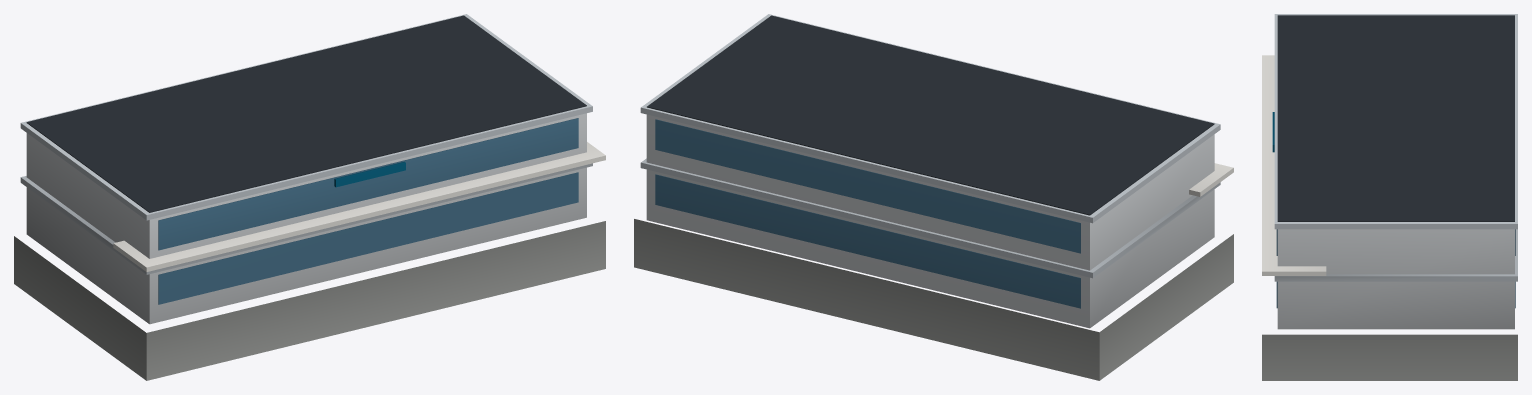
The model's file is aerodrome-terminal.glb.
3 renders of one model, left to right at view 1: azimuth 30°, elevation 25°; view 2: azimuth 150°, elevation 25°; view 3: azimuth 270°, elevation 25°, orthographic. The views are drawn at different scales.
Parts seen in each view (by area): view 1: aerodrome-terminal; view 2: aerodrome-terminal; view 3: aerodrome-terminal.
Boxes of the visible parts, left/top/right/bottom form: aerodrome-terminal: left=14, top=14, right=605, bottom=380; aerodrome-terminal: left=634, top=14, right=1233, bottom=380; aerodrome-terminal: left=1262, top=14, right=1517, bottom=380.
Bounding box in the file's own units: 30 × 10 × 15.
